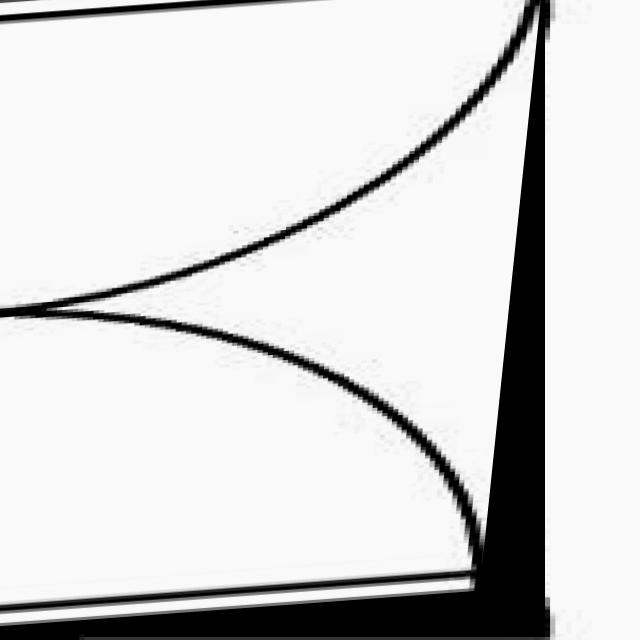door: (0, 0, 545, 634)
